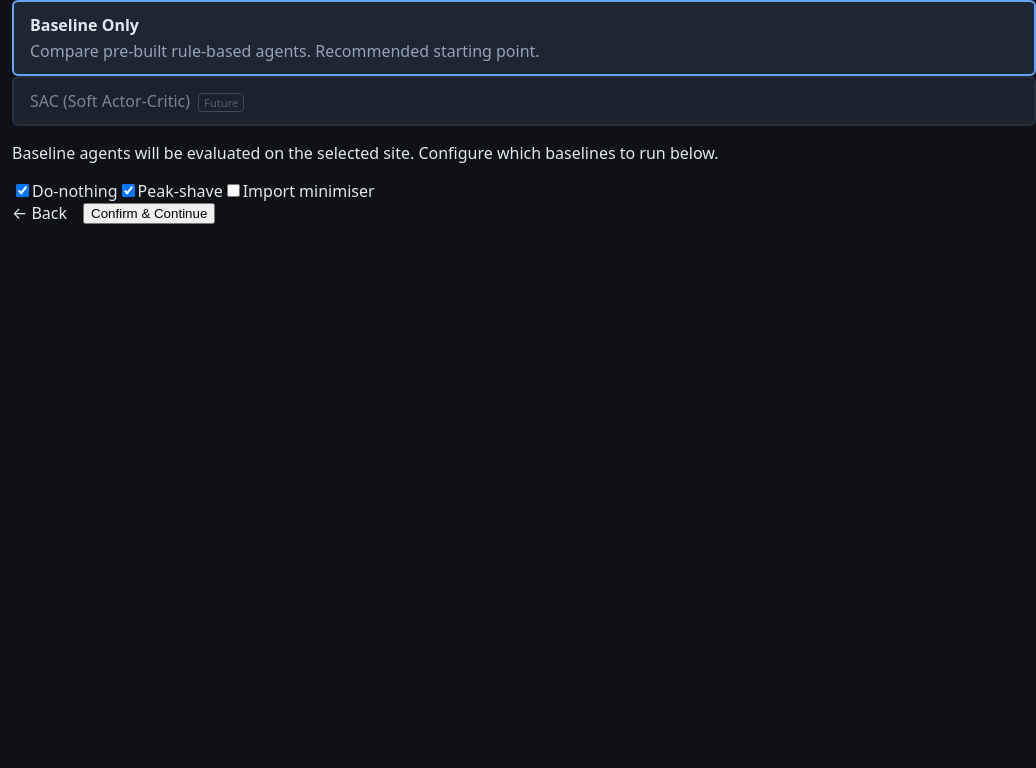
Test: §T3 Algorithm card interaction (SAC = non-submitting stub) › [T-ALGO-5] switching SAC → baseline_only: SAC sections hidden; notice reappears
Click the radio button with test id "algo-card-sac" at [524, 101], box top-left (12, 76), bottom-right (1035, 126)
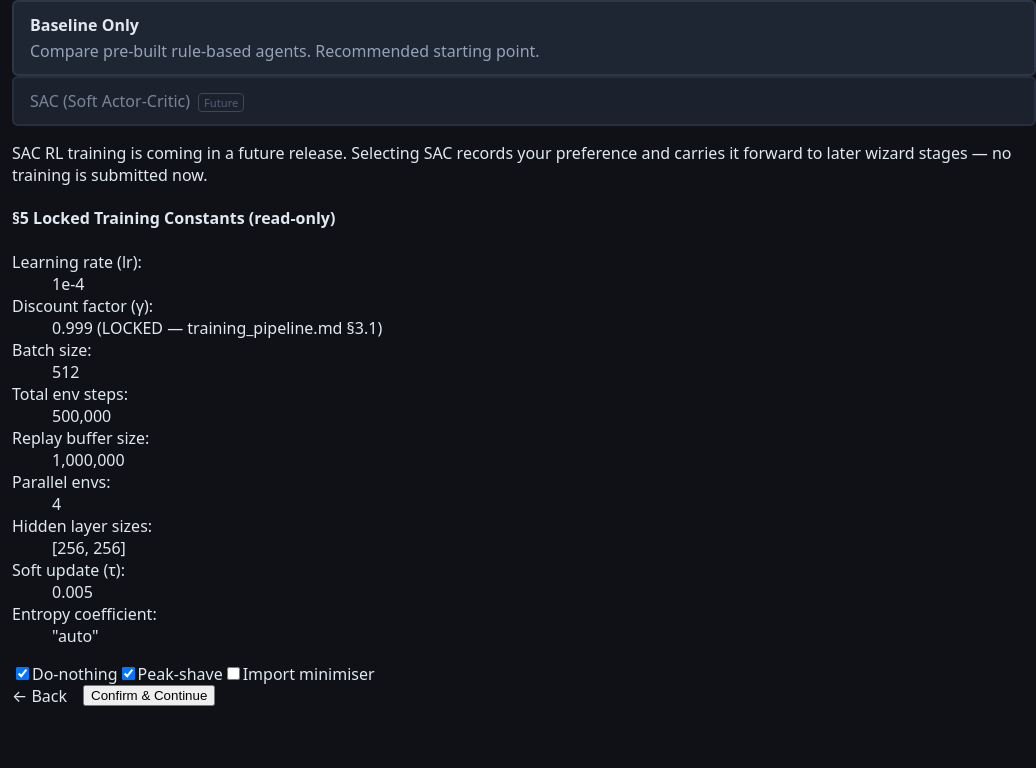
Result: the element with test id "algo-sac-coming-soon-notice" is shown at top-left (12, 142), bottom-right (1035, 186)
Click the radio button with test id "algo-card-baseline-only" at [524, 38], box top-left (12, 0), bottom-right (1035, 76)
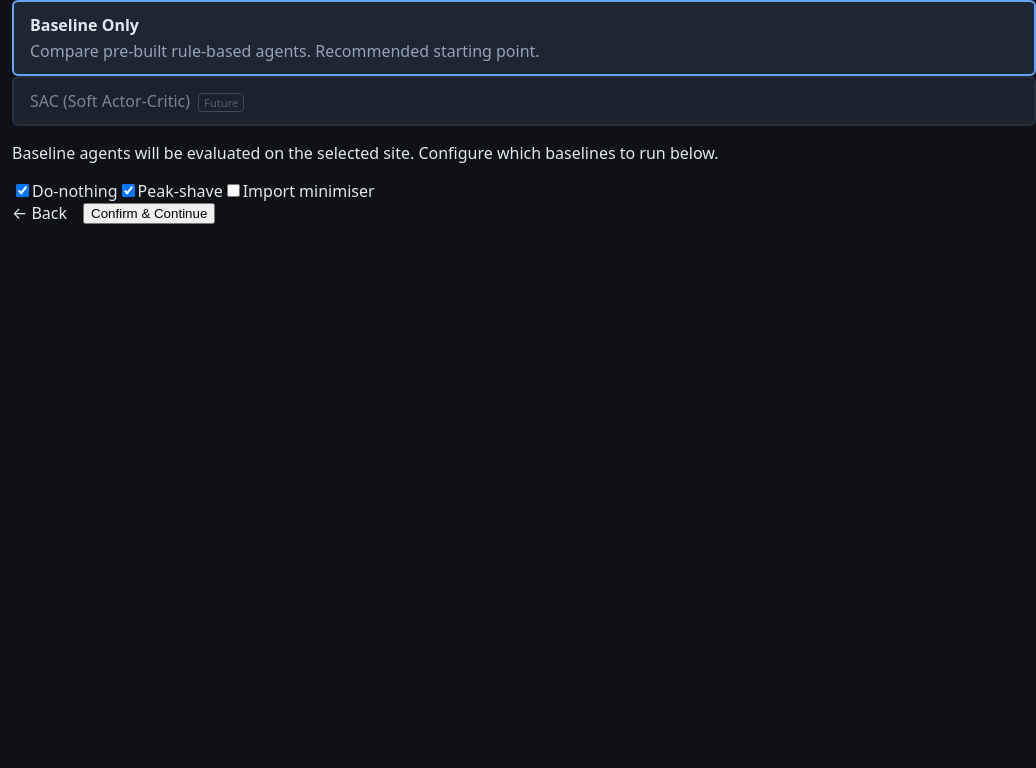
Result: the element with test id "algo-sac-coming-soon-notice" is gone
Result: the element with test id "algo-sac-constants-preview" is gone
Result: the element with test id "algo-baseline-notice" is shown at top-left (12, 142), bottom-right (718, 164)
